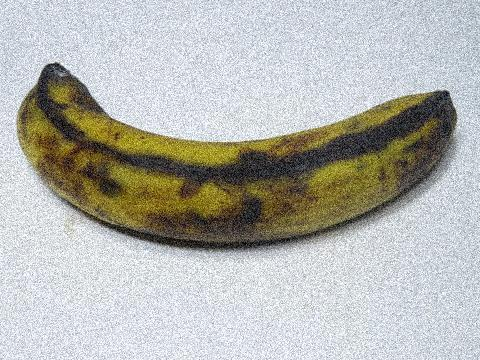overripe: (9, 50, 463, 252)
